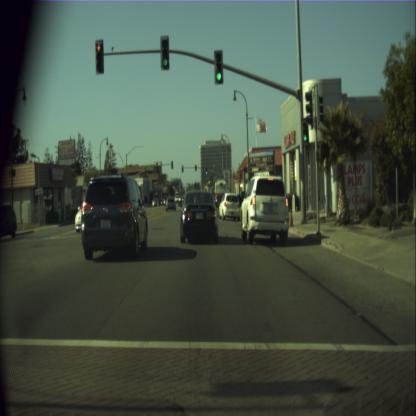Green: (160, 35, 169, 70), (214, 49, 223, 83), (302, 118, 308, 144), (205, 167, 207, 174)
Red: (181, 164, 183, 171)
RedLeft: (96, 40, 104, 74)
off: (194, 164, 196, 170)
